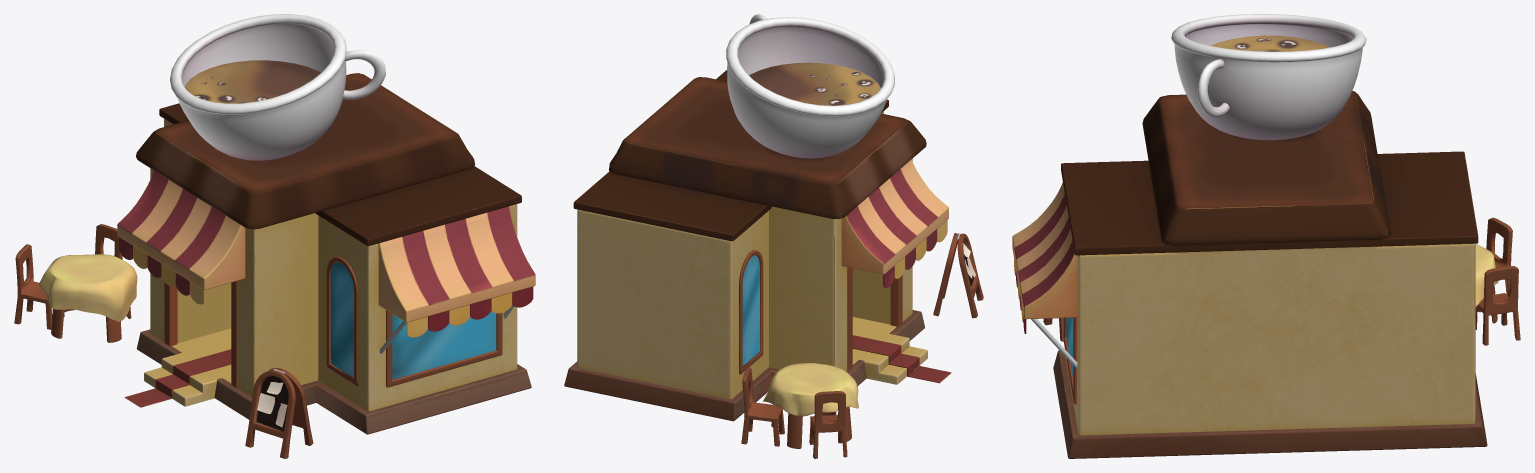
Rendered from building1_lambert1_0.003_lev2.glb.
3 views of the same model, side by side, from view 1: azimuth 30°, elevation 25°; view 2: azimuth 150°, elevation 25°; view 3: azimuth 270°, elevation 25° (orthographic). The views are drawn at different scales.
Visible parts, largest first — view 1: building1_lambert1_0.003_lev2; view 2: building1_lambert1_0.003_lev2; view 3: building1_lambert1_0.003_lev2.
Part boxes in pixels (box(x1,y1,x2,y2)): building1_lambert1_0.003_lev2: box(14, 14, 535, 458); building1_lambert1_0.003_lev2: box(564, 14, 983, 458); building1_lambert1_0.003_lev2: box(1012, 14, 1520, 458).
Size of the model in its own units: 13.35 by 12.82 by 16.84.
Materials: 1 (1 with a texture image).
